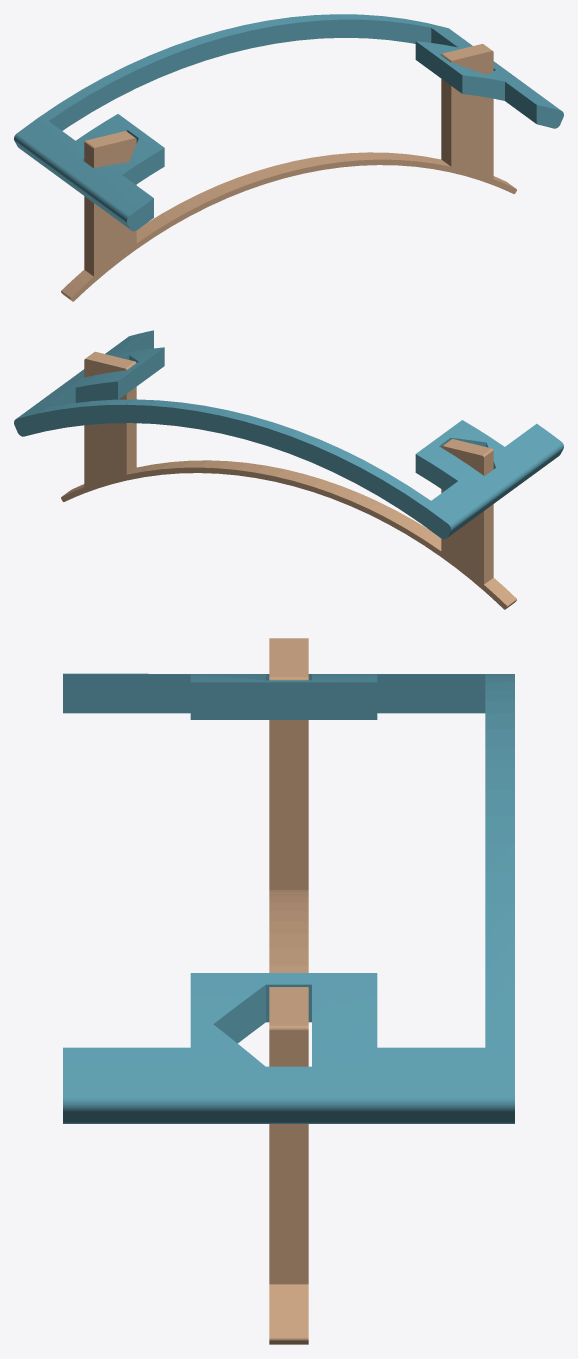
The model's file is R06_ASSIEME.glb.
The picture shows the model from 3 angles, top to bottom: view 1: azimuth 30°, elevation 25°; view 2: azimuth 150°, elevation 25°; view 3: azimuth 270°, elevation 25°; orthographic projection. The views are drawn at different scales.
Visible parts, largest first — view 1: base_cornice, ponte_terminale; view 2: base_cornice, ponte_terminale; view 3: base_cornice, ponte_terminale.
Boxes of the visible parts, x1,y1,x2,y2 form: base_cornice: (14,14,563,231); ponte_terminale: (61,43,516,301); base_cornice: (14,330,563,539); ponte_terminale: (61,351,516,609); base_cornice: (63,673,514,1123); ponte_terminale: (269,638,308,1344).
Size of the model in its own units: 0.105 by 0.0394 by 0.046.
